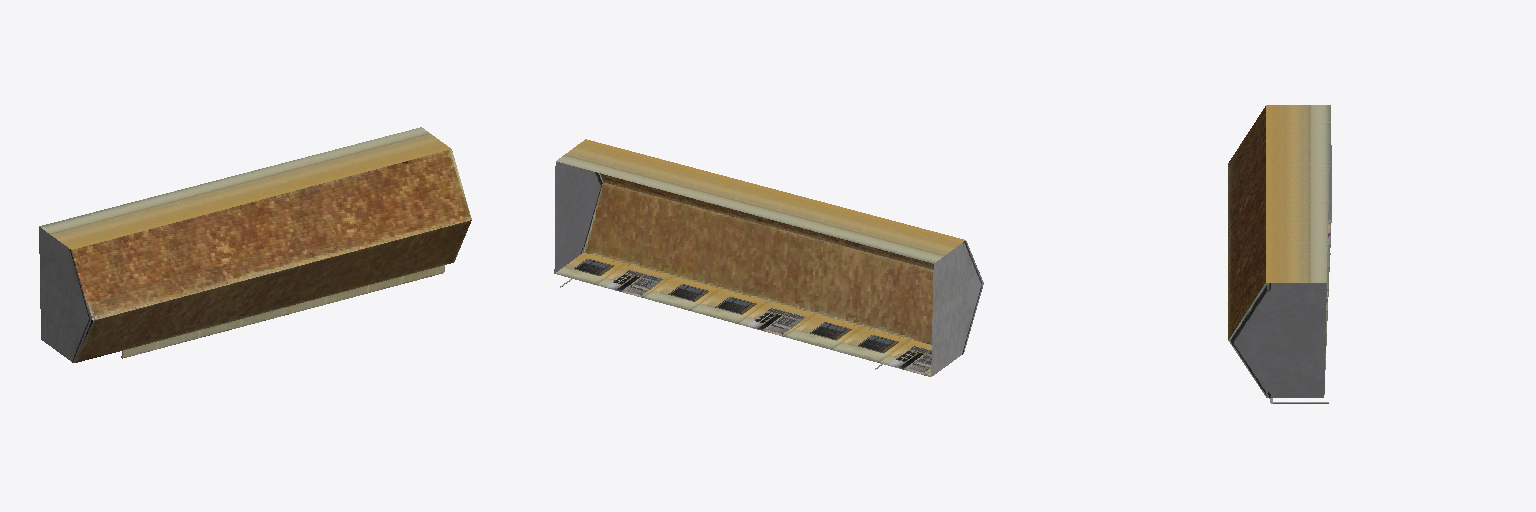
3 renders of one model, left to right at view 1: azimuth 30°, elevation 25°; view 2: azimuth 150°, elevation 25°; view 3: azimuth 270°, elevation 25°, orthographic.
Visible parts, largest first — view 1: Group_MatrixTransform_i96026_Geometry_4, Group_MatrixTransform_i96026_Geometry_2, Group_MatrixTransform_i96026_Geometry_1, Group_MatrixTransform_i96026_Geometry_3; view 2: Group_MatrixTransform_i96026_Geometry_4, Group_MatrixTransform_i96026_Geometry_2, Group_MatrixTransform_i96026_Geometry_6, Group_MatrixTransform_i96026_Geometry_1, Group_MatrixTransform_i96026_Geometry_5, Group_MatrixTransform_i96026_Geometry_0; view 3: Group_MatrixTransform_i96026_Geometry_2, Group_MatrixTransform_i96026_Geometry_0, Group_MatrixTransform_i96026_Geometry_4.
Boxes of the visible parts, x1=… form: Group_MatrixTransform_i96026_Geometry_4: x1=72, y1=149, x2=471, y2=362; Group_MatrixTransform_i96026_Geometry_2: x1=39, y1=127, x2=450, y2=249; Group_MatrixTransform_i96026_Geometry_1: x1=39, y1=227, x2=90, y2=362; Group_MatrixTransform_i96026_Geometry_3: x1=122, y1=265, x2=444, y2=358; Group_MatrixTransform_i96026_Geometry_4: x1=584, y1=173, x2=933, y2=344; Group_MatrixTransform_i96026_Geometry_2: x1=556, y1=139, x2=965, y2=263; Group_MatrixTransform_i96026_Geometry_6: x1=555, y1=253, x2=915, y2=363; Group_MatrixTransform_i96026_Geometry_1: x1=931, y1=241, x2=983, y2=376; Group_MatrixTransform_i96026_Geometry_5: x1=602, y1=265, x2=931, y2=376; Group_MatrixTransform_i96026_Geometry_0: x1=554, y1=162, x2=603, y2=273; Group_MatrixTransform_i96026_Geometry_2: x1=1266, y1=105, x2=1330, y2=282; Group_MatrixTransform_i96026_Geometry_0: x1=1228, y1=283, x2=1326, y2=397; Group_MatrixTransform_i96026_Geometry_4: x1=1228, y1=106, x2=1265, y2=339.
Size of the model in its own units: 30.55 by 10.02 by 7.14.
Materials: 9 (9 with a texture image).